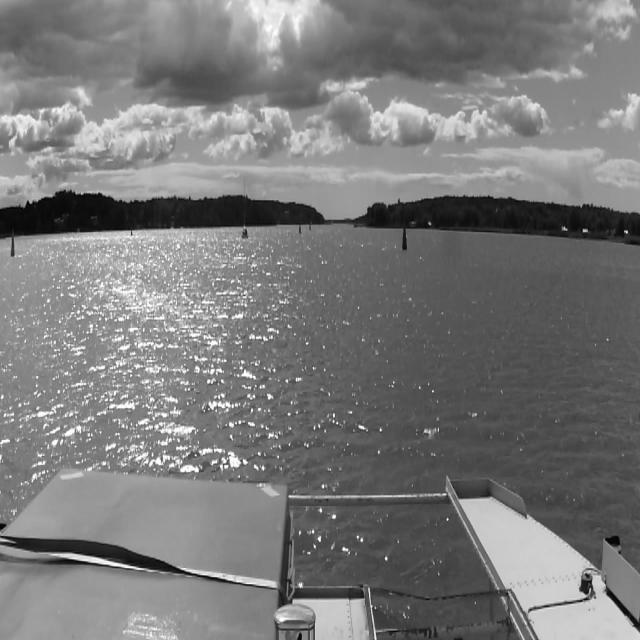buoy: (296, 214, 302, 238), (11, 231, 15, 256), (403, 225, 407, 249), (307, 219, 311, 232), (129, 222, 132, 238)
ship: (242, 177, 248, 238)
